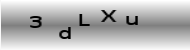3: (28, 15, 43, 29)
L: (77, 12, 91, 26)
X: (101, 8, 117, 23)
d: (57, 26, 72, 39)
u: (126, 14, 139, 26)
